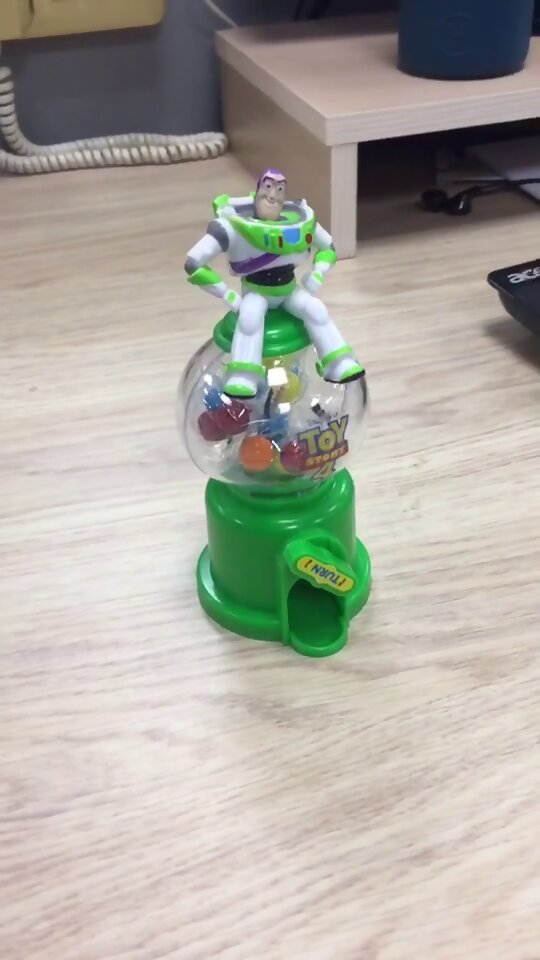buzz: (172, 159, 378, 658)
